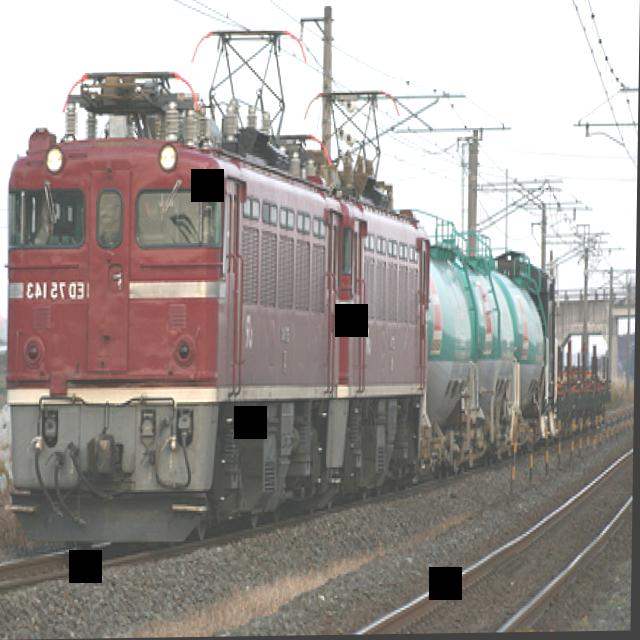locomotive: (0, 17, 439, 574)
tank: (422, 210, 476, 473), (472, 220, 514, 453), (506, 250, 549, 427)
